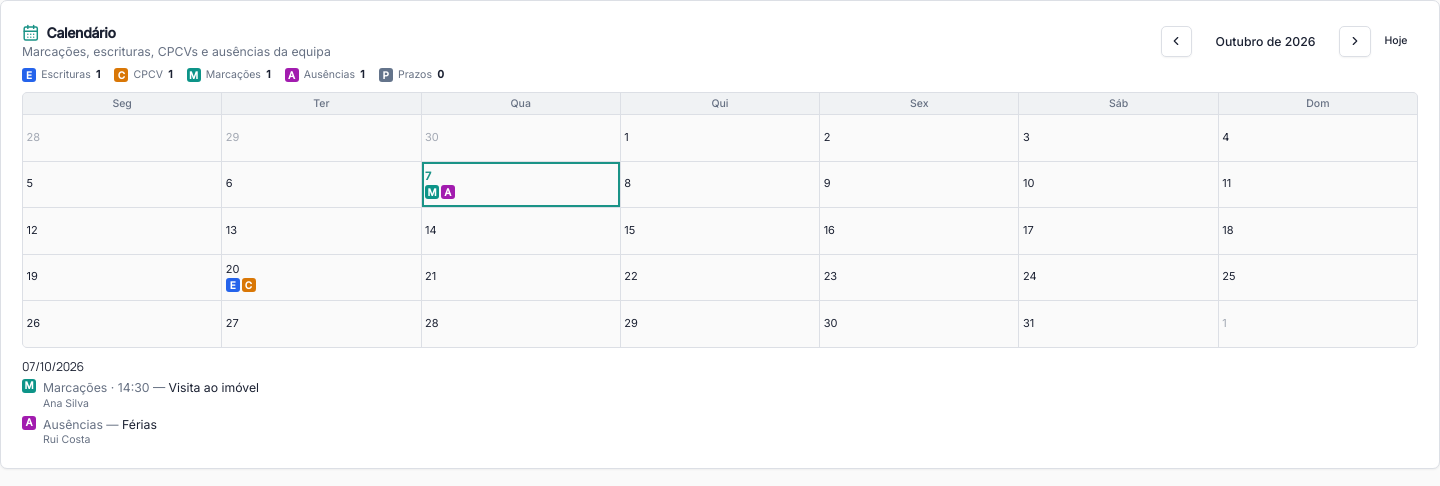
Test case: navegar entre meses › «Mês seguinte» pede o mês seguinte e passa ao dia 1
expect the element with test id "itens-do-dia" is shown: met, box x1=22 y1=358 x2=259 y2=446
Click the button named "Mês seguinte": coordinates (1355, 41) x1=1339 y1=26 x2=1370 y2=57
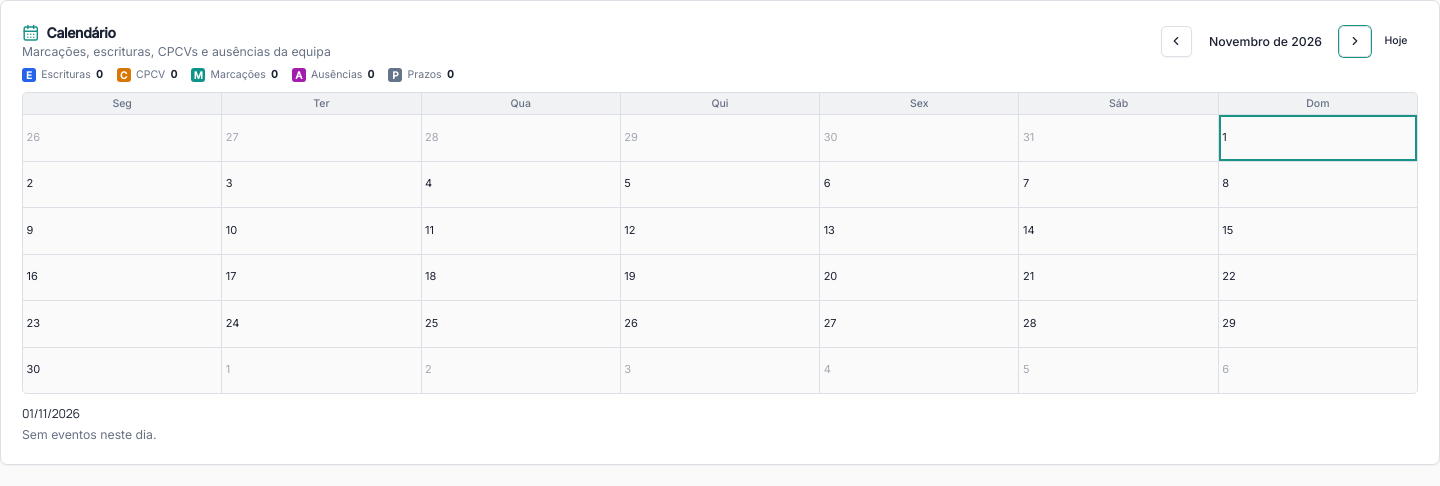
expect the text with test id "mes-do-calendario" reads "Novembro de 2026": met, box x1=1209 y1=34 x2=1322 y2=48
